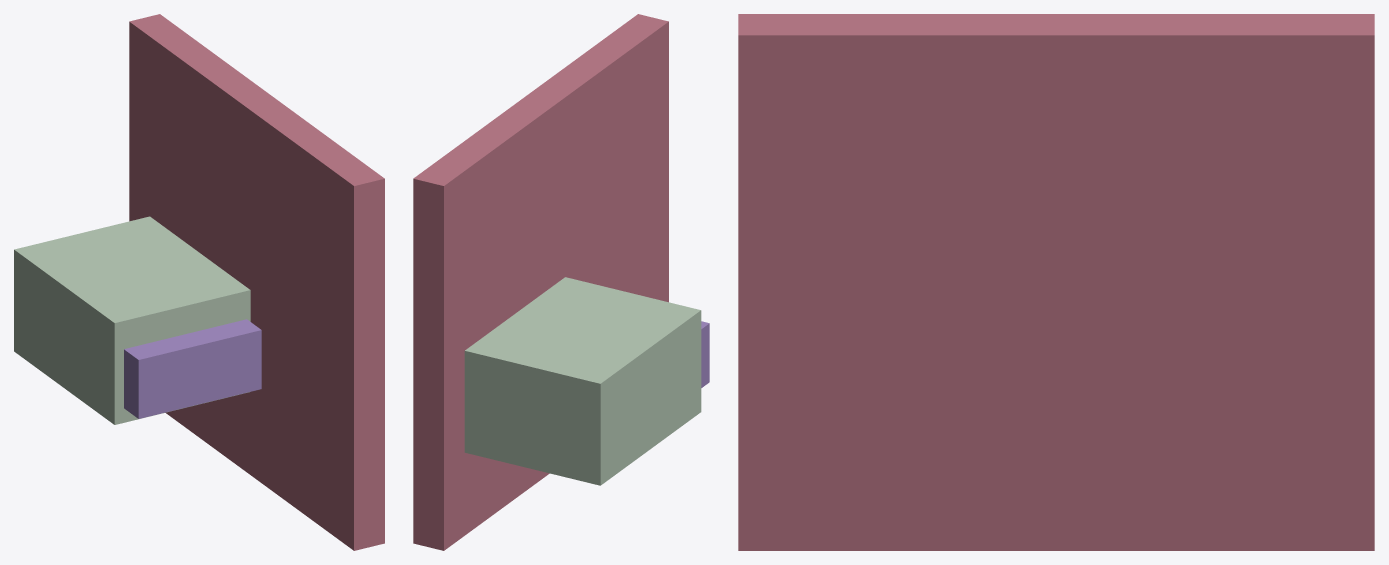
3 renders of one model, left to right at view 1: azimuth 30°, elevation 25°; view 2: azimuth 150°, elevation 25°; view 3: azimuth 270°, elevation 25°, orthographic. The views are drawn at different scales.
Visible parts, largest first — view 1: world; view 2: world; view 3: world.
Part boxes in pixels (bbox=[...]): world: bbox=[14, 14, 384, 550]; world: bbox=[413, 14, 709, 550]; world: bbox=[738, 14, 1374, 550].
Size of the model in its own units: 3.25 by 6.8 by 7.6.
